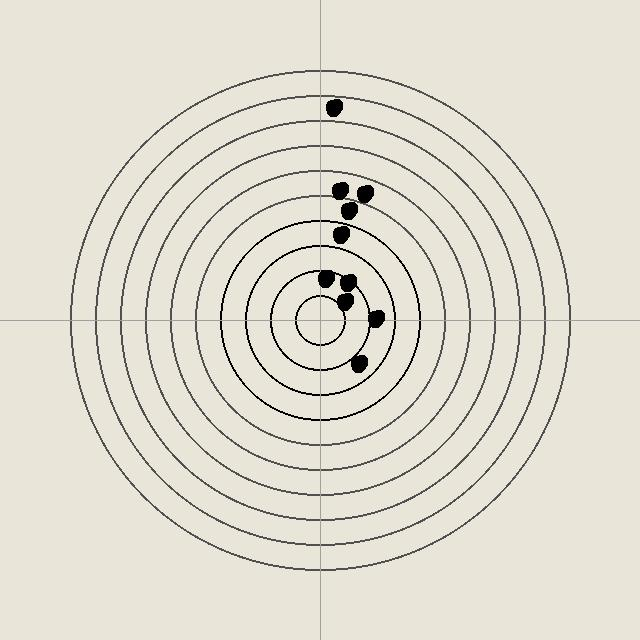vertical_scatter: (365, 308, 385, 328), (330, 224, 350, 244), (354, 183, 374, 203), (315, 268, 335, 288), (334, 291, 354, 311), (323, 97, 343, 117), (348, 353, 368, 373), (337, 272, 357, 292), (338, 200, 358, 220), (329, 180, 349, 200)
